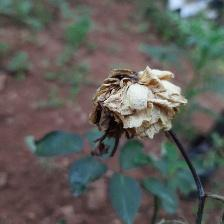rose: (88, 64, 191, 160)
